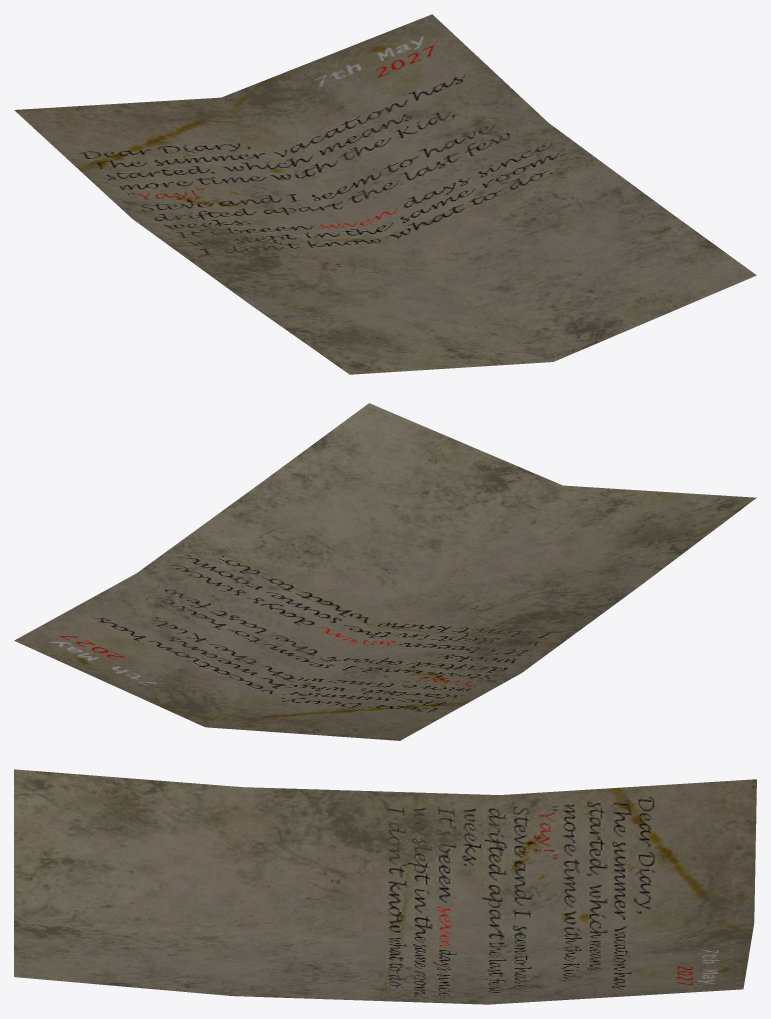
Rendered from Note2.FBX.
3 renders of one model, top to bottom at view 1: azimuth 30°, elevation 25°; view 2: azimuth 150°, elevation 25°; view 3: azimuth 270°, elevation 25°, orthographic. The views are drawn at different scales.
Visible parts, largest first — view 1: Note2; view 2: Note2; view 3: Note2.
Part boxes in pixels (<box>): Note2: <box>14,14,756,374</box>; Note2: <box>14,403,756,740</box>; Note2: <box>14,769,756,1004</box>.
Bounding box in the file's own units: 26.76 × 3.23 × 38.19.
